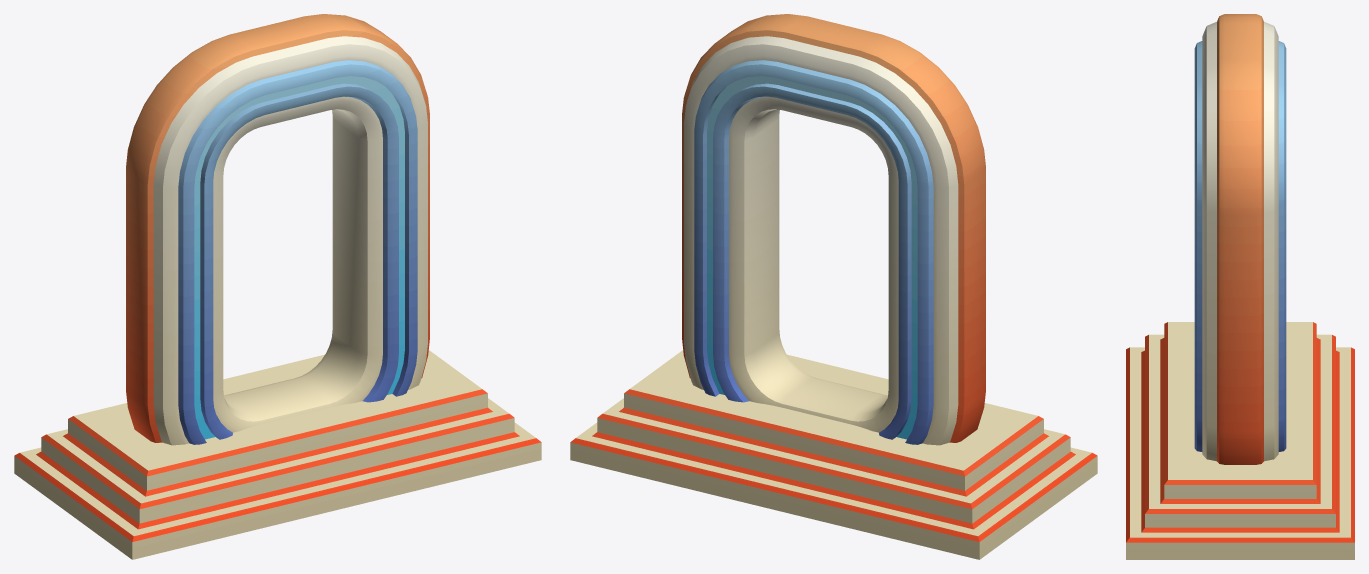
Rendered from sm_futuristic_portal.fbx.
The picture shows the model from 3 angles, left to right: view 1: azimuth 30°, elevation 25°; view 2: azimuth 150°, elevation 25°; view 3: azimuth 270°, elevation 25°; orthographic projection. The views are drawn at different scales.
Visible parts, largest first — view 1: sm_futuristic_portal; view 2: sm_futuristic_portal; view 3: sm_futuristic_portal.
Boxes of the visible parts, left/top/right/bottom form: sm_futuristic_portal: left=14, top=14, right=541, bottom=559; sm_futuristic_portal: left=570, top=14, right=1097, bottom=559; sm_futuristic_portal: left=1126, top=14, right=1354, bottom=559.
Size of the model in its own units: 600 by 300 by 610.
